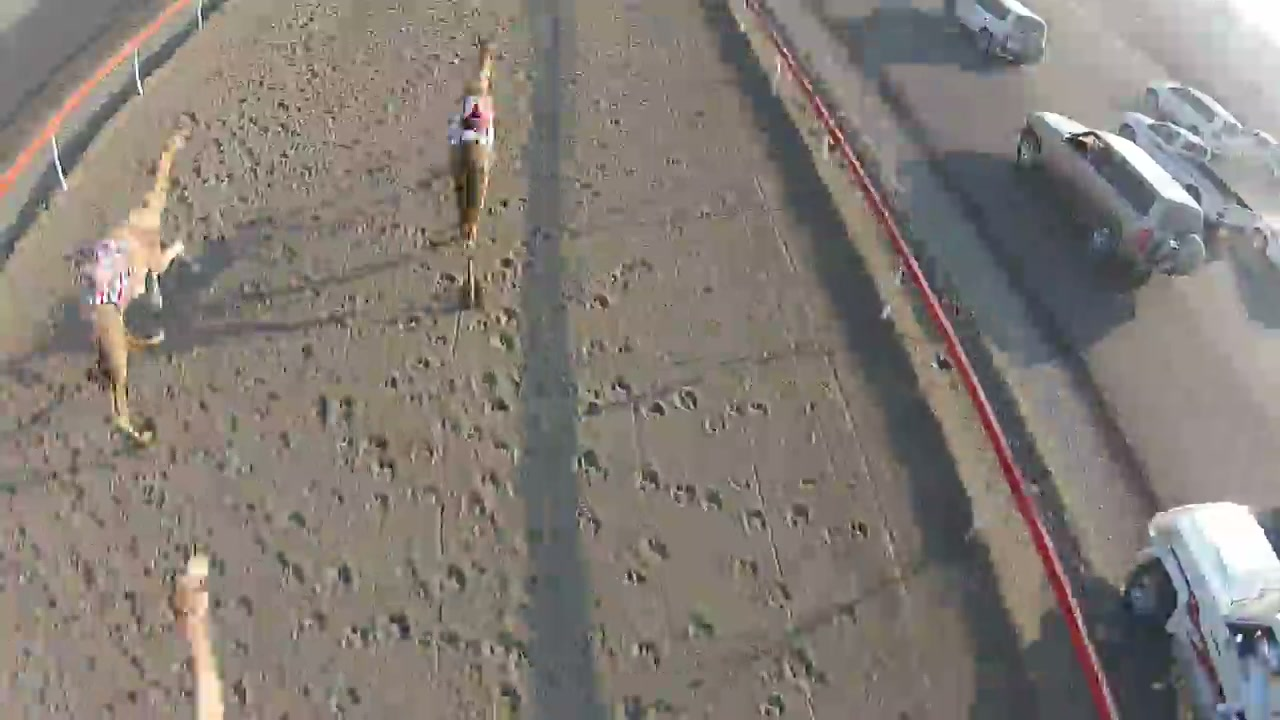animal_footprint: (384, 157, 862, 717), (209, 153, 399, 693)
